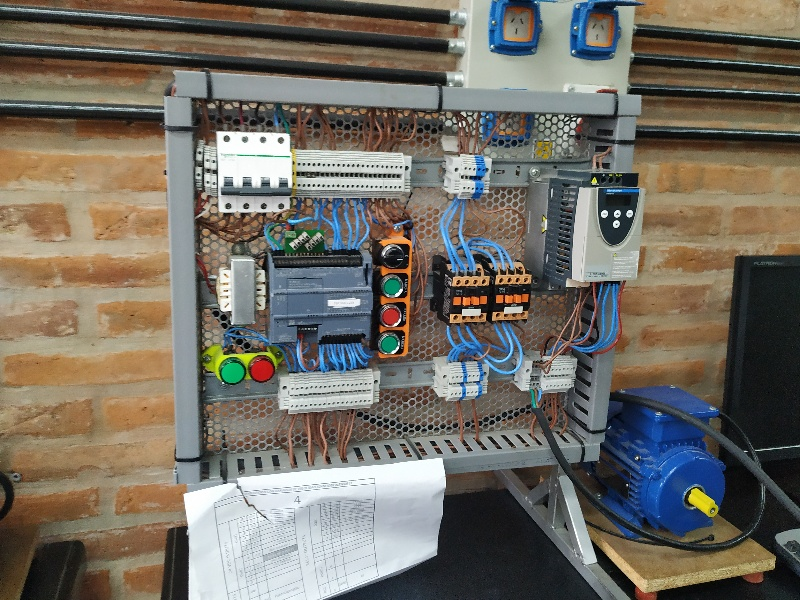Tablero 4: (188, 92, 641, 459)
